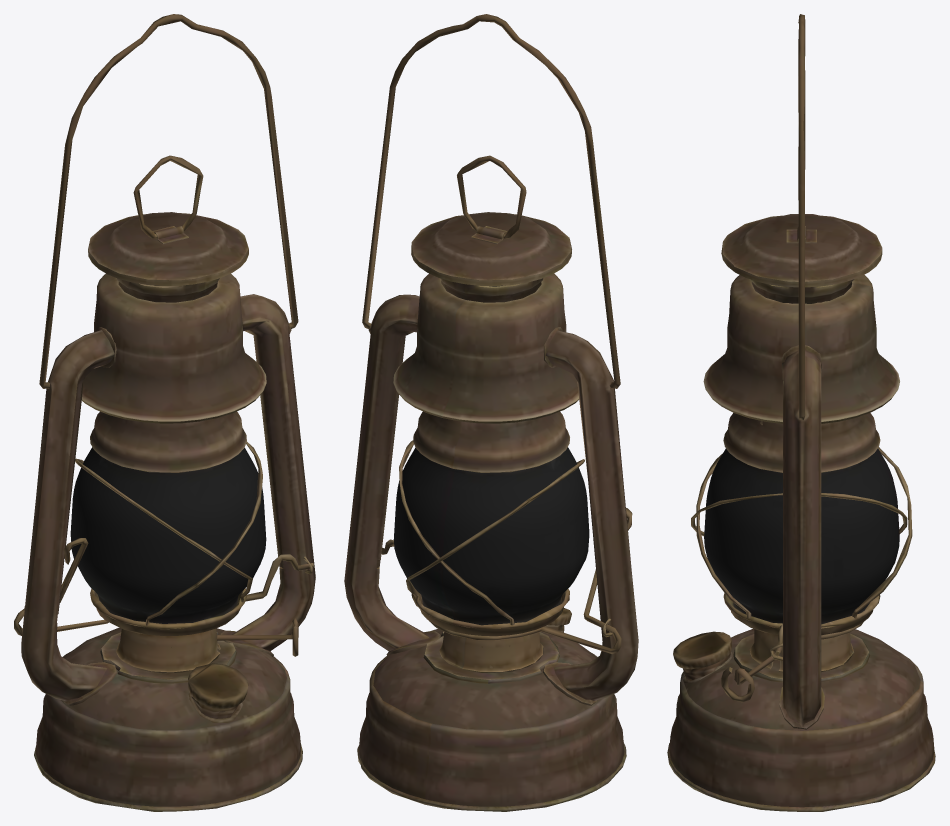
The model's file is lantern-metal.glb.
The picture shows the model from 3 angles, left to right: view 1: azimuth 30°, elevation 25°; view 2: azimuth 150°, elevation 25°; view 3: azimuth 270°, elevation 25°; orthographic projection.
Visible parts, largest first — view 1: Lantern_01, Lantern_01_glass; view 2: Lantern_01, Lantern_01_glass; view 3: Lantern_01, Lantern_01_glass.
Part boxes in pixels (<box>): Lantern_01: <box>14,14,315,811</box>; Lantern_01_glass: <box>70,447,266,623</box>; Lantern_01: <box>344,14,638,811</box>; Lantern_01_glass: <box>393,447,589,625</box>; Lantern_01: <box>667,14,935,811</box>; Lantern_01_glass: <box>704,448,899,624</box>.
Size of the model in its own units: 0.1219 by 0.2942 by 0.0967.
2 materials, 2 textured.
